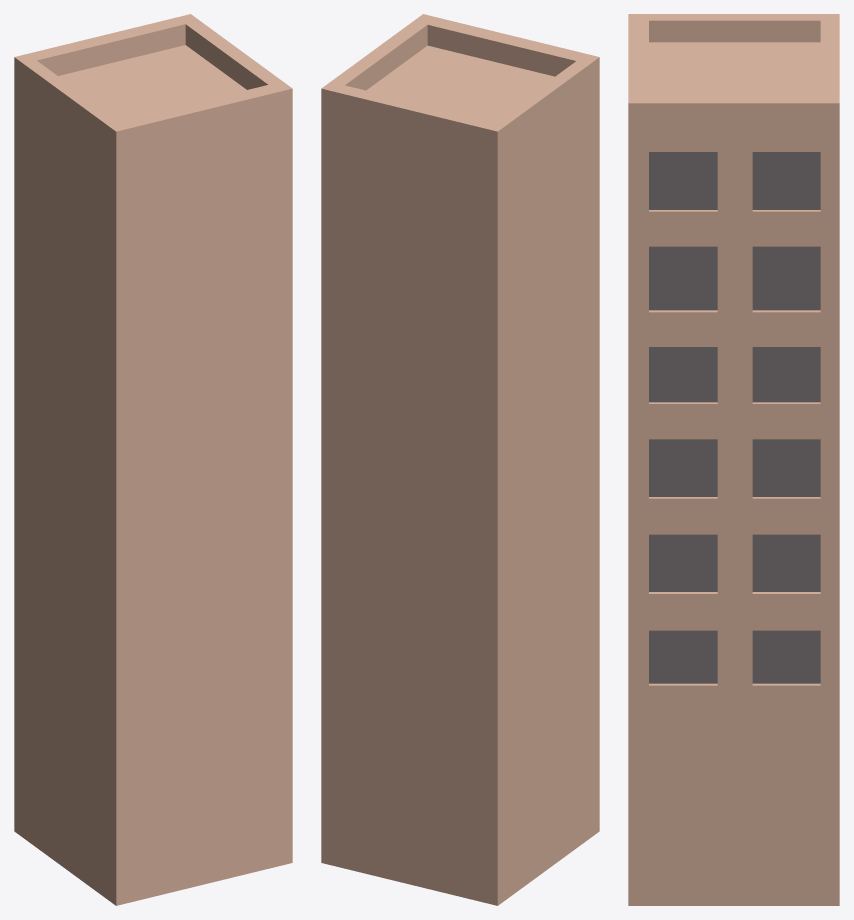
Rendered from Skyscraper.fbx.
3 views of the same model, side by side, from view 1: azimuth 30°, elevation 25°; view 2: azimuth 150°, elevation 25°; view 3: azimuth 270°, elevation 25° (orthographic). The views are drawn at different scales.
Visible parts, largest first — view 1: Cube; view 2: Cube; view 3: Cube, Cube.001.
Boxes of the visible parts, x1=… form: Cube: x1=14, y1=14, x2=292, y2=905; Cube: x1=321, y1=14, x2=599, y2=905; Cube: x1=628, y1=14, x2=839, y2=905; Cube.001: x1=649, y1=152, x2=820, y2=683.
Size of the model in its own units: 677 by 2837 by 677.
